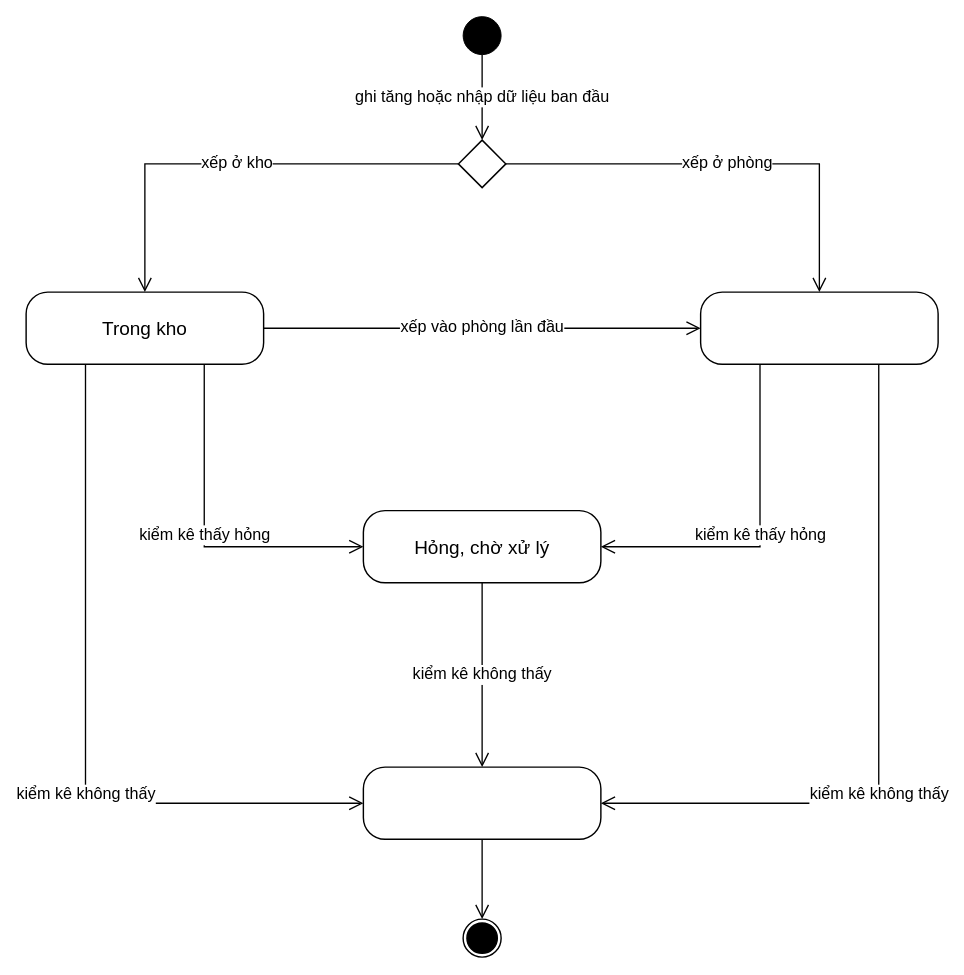
Image size: 964x975. Some labels were removed from this diagram. The box of each missing label's shape, as (x1, y1, x2, y2) in pixels:
Mất: (362, 766, 601, 840)
Đang sử dụng: (699, 291, 938, 365)
